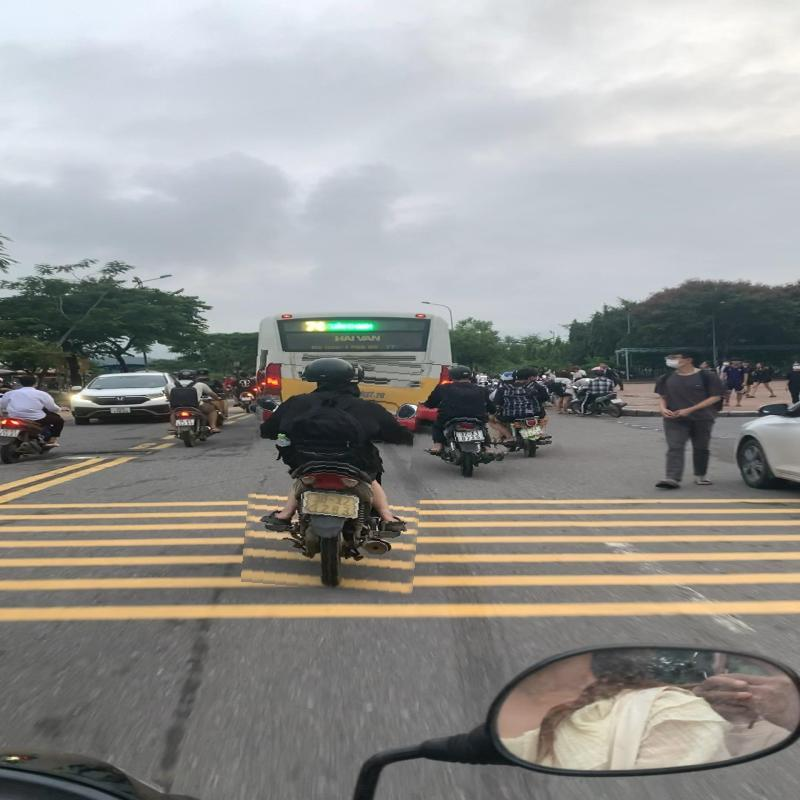helmet: (302, 358, 358, 382), (448, 364, 473, 380)
licenseplate: (300, 489, 363, 520), (455, 430, 486, 444), (519, 425, 546, 438)
motorcyclist: (246, 352, 427, 592), (413, 362, 511, 480), (489, 366, 560, 460)
nohelmet: (516, 367, 539, 380)
